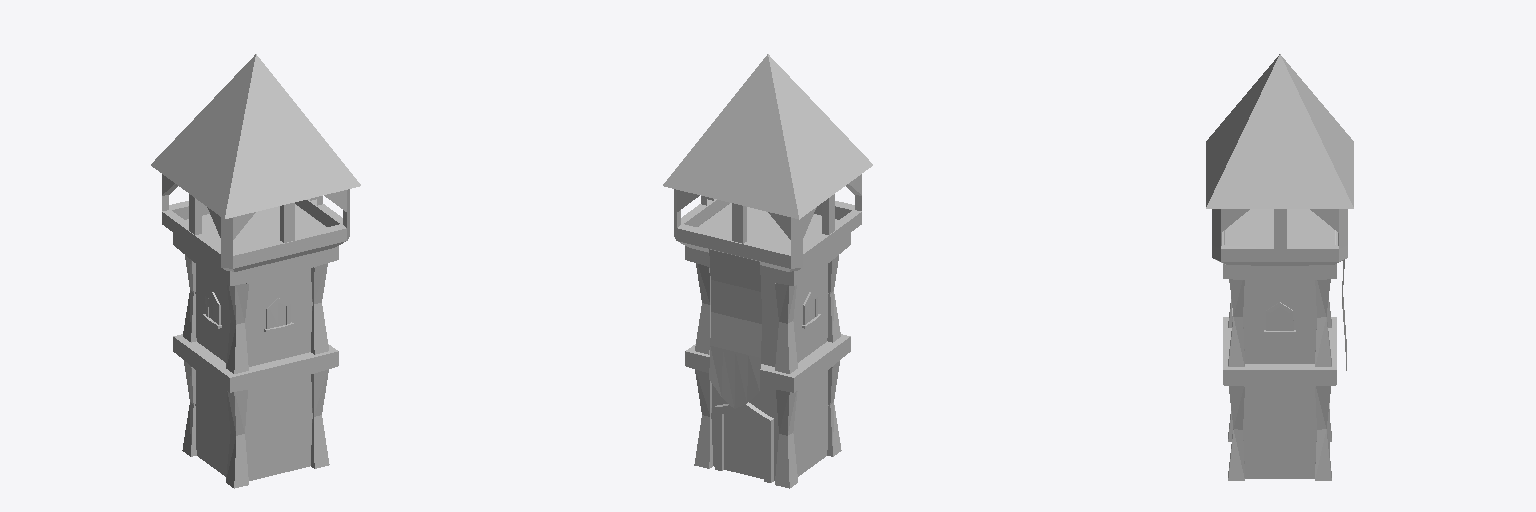
The model's file is turret.obj.
3 renders of one model, left to right at view 1: azimuth 30°, elevation 25°; view 2: azimuth 150°, elevation 25°; view 3: azimuth 270°, elevation 25°, orthographic.
Parts seen in each view (by area): view 1: turret; view 2: turret; view 3: turret.
Part boxes in pixels (x1,y1,x2,y2): turret: (151,54,360,488); turret: (663,54,872,488); turret: (1206,54,1353,480).
Bounding box in the file's own units: 8.38 × 23.57 × 7.87.